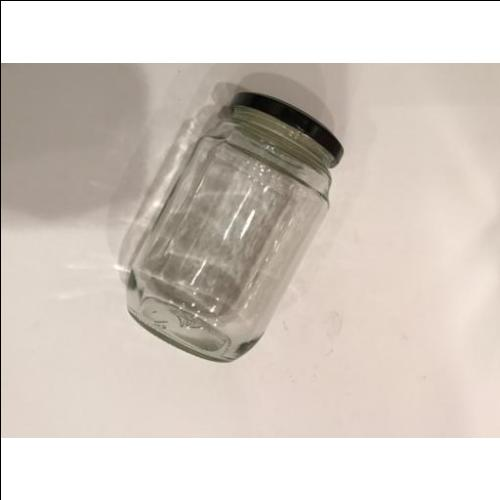glass: (131, 94, 339, 363)
